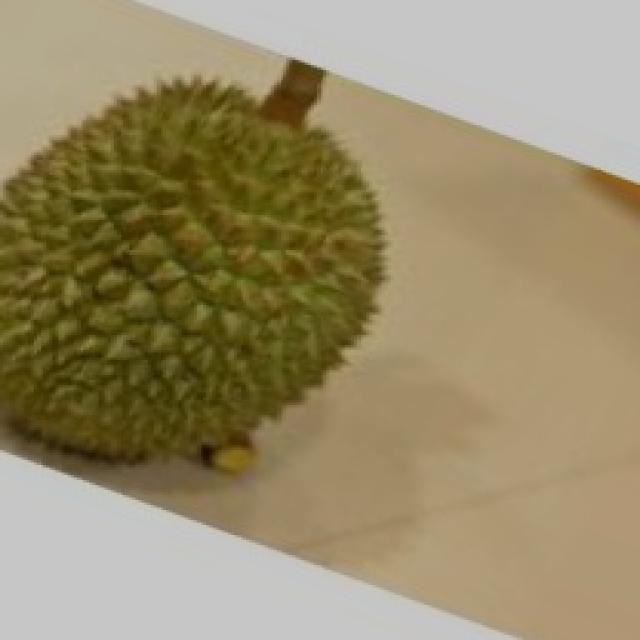fruit: (3, 58, 437, 508)
